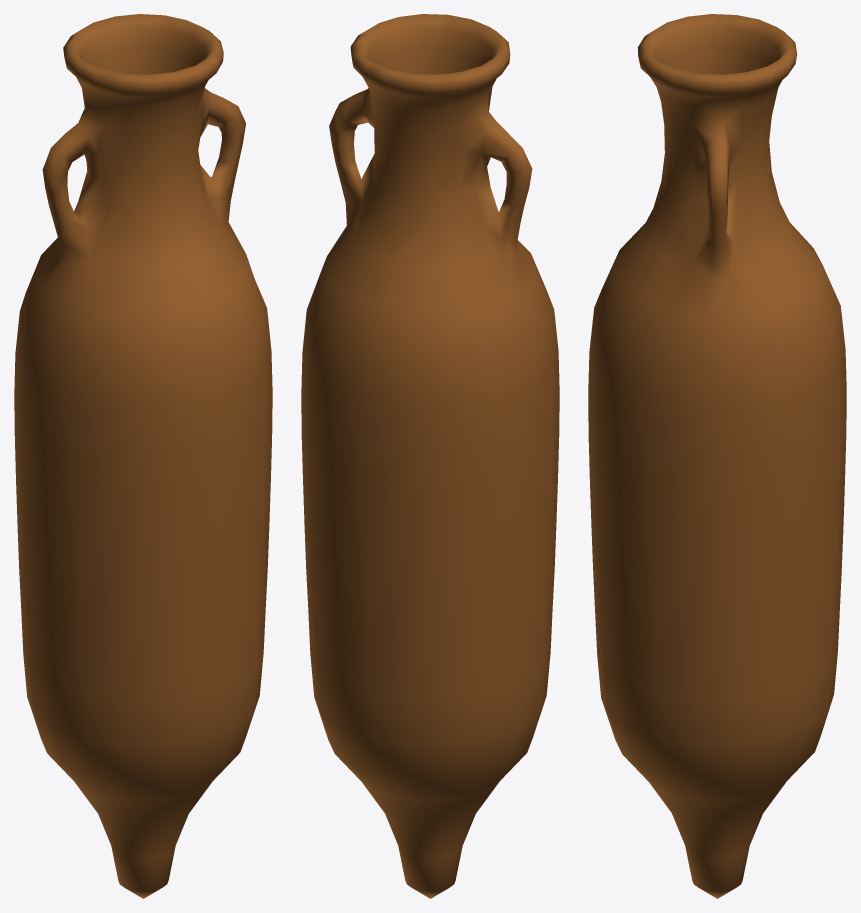
Rendered from museum_assets_4.fbx.
3 renders of one model, left to right at view 1: azimuth 30°, elevation 25°; view 2: azimuth 150°, elevation 25°; view 3: azimuth 270°, elevation 25°, orthographic.
Parts seen in each view (by area): view 1: amfora_!; view 2: amfora_!; view 3: amfora_!.
Boxes of the visible parts, x1,y1,x2,y2 form: amfora_!: [14, 14, 272, 898]; amfora_!: [301, 14, 559, 898]; amfora_!: [588, 14, 846, 898].
Size of the model in its own units: 0.2181 by 0.8049 by 0.2208.
